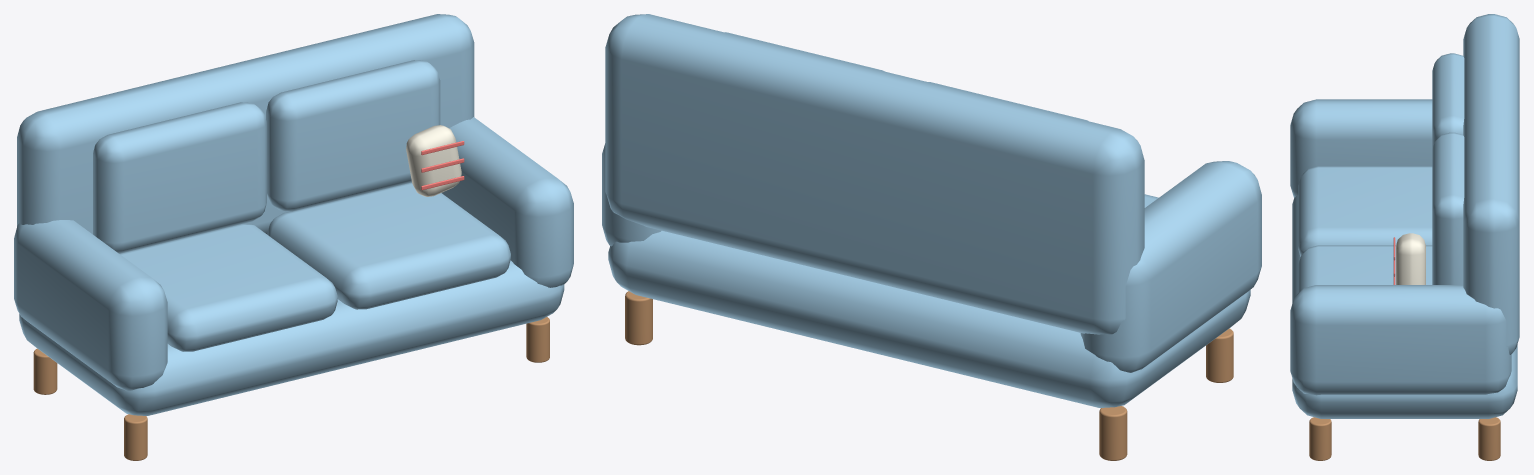
File: sofaBlueClassic.glb
The picture shows the model from 3 angles, left to right: view 1: azimuth 30°, elevation 25°; view 2: azimuth 150°, elevation 25°; view 3: azimuth 270°, elevation 25°; orthographic projection. The views are drawn at different scales.
Parts seen in each view (by area): view 1: Sofa back, Upholstered base, Back cushion, Seat cushion.001, Back cushion.001, Rolled arm, Seat cushion, Rolled arm.001, Striped accent pillow, Furniture foot, Furniture foot.002, Furniture foot.001; view 2: Sofa back, Upholstered base, Rolled arm, Furniture foot.001, Rolled arm.001, Furniture foot.003, Furniture foot; view 3: Rolled arm.001, Sofa back, Seat cushion, Rolled arm, Upholstered base, Back cushion.001, Seat cushion.001, Back cushion, Striped accent pillow, Furniture foot.002, Furniture foot.003.
Part boxes in pixels (bbox=[...]): Sofa back: bbox=[17, 14, 474, 234]; Upholstered base: bbox=[19, 260, 564, 415]; Back cushion: bbox=[93, 102, 266, 253]; Seat cushion.001: bbox=[267, 182, 510, 309]; Back cushion.001: bbox=[266, 60, 440, 211]; Rolled arm: bbox=[14, 220, 167, 391]; Seat cushion: bbox=[119, 224, 337, 351]; Rolled arm.001: bbox=[442, 117, 573, 287]; Striped accent pillow: bbox=[406, 125, 461, 196]; Furniture foot: bbox=[124, 414, 147, 460]; Furniture foot.002: bbox=[526, 317, 549, 362]; Furniture foot.001: bbox=[33, 348, 57, 394]; Sofa back: bbox=[605, 14, 1144, 334]; Upholstered base: bbox=[608, 231, 1250, 407]; Rolled arm: bbox=[1080, 161, 1261, 372]; Furniture foot.001: bbox=[1099, 406, 1127, 460]; Rolled arm.001: bbox=[602, 143, 661, 246]; Furniture foot.003: bbox=[625, 291, 652, 345]; Furniture foot: bbox=[1206, 328, 1233, 382]; Rolled arm.001: bbox=[1290, 285, 1511, 395]; Sofa back: bbox=[1463, 14, 1519, 354]; Seat cushion: bbox=[1298, 166, 1432, 256]; Rolled arm: bbox=[1290, 99, 1432, 197]; Upholstered base: bbox=[1292, 195, 1517, 418]; Back cushion.001: bbox=[1432, 132, 1464, 284]; Seat cushion.001: bbox=[1298, 245, 1432, 292]; Back cushion: bbox=[1432, 53, 1464, 148]; Striped accent pillow: bbox=[1396, 233, 1425, 284]; Furniture foot.002: bbox=[1309, 417, 1331, 460]; Furniture foot.003: bbox=[1478, 417, 1500, 460].
Bounding box in the file's own units: 2.48 × 1.41 × 1.14.
